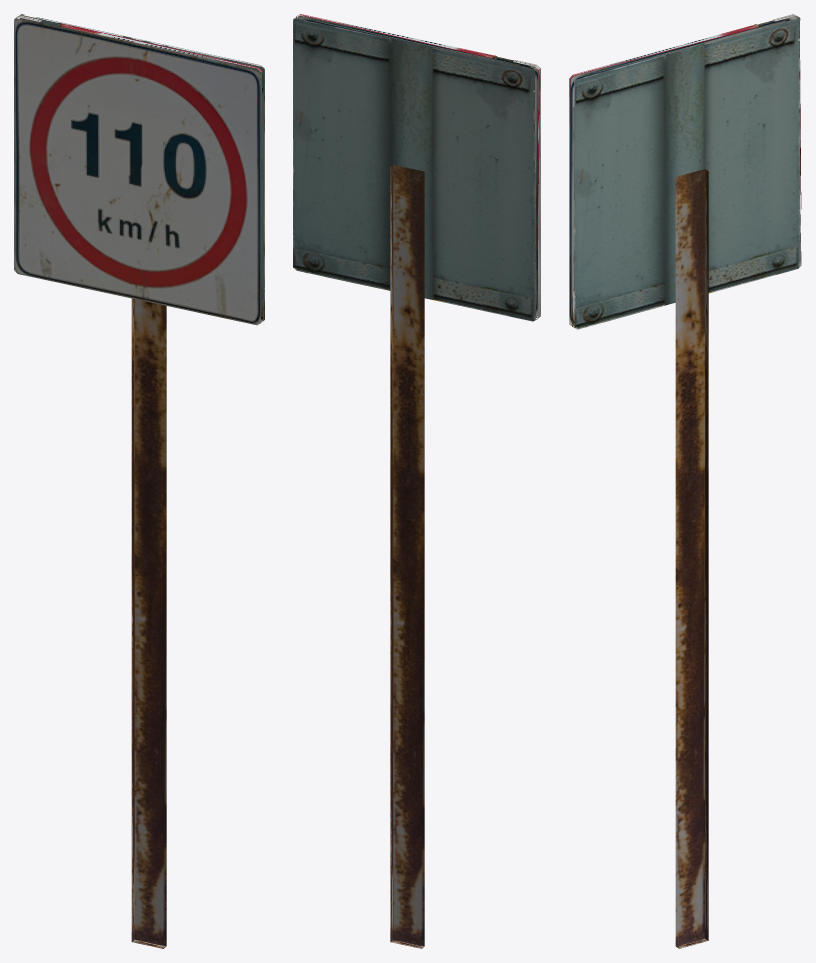
File: speed-limit-110.fbx
3 renders of one model, left to right at view 1: azimuth 30°, elevation 25°; view 2: azimuth 210°, elevation 25°; view 3: azimuth 270°, elevation 25°, orthographic.
Parts seen in each view (by area): view 1: pasted__sign_misc_1, pPlane1; view 2: pasted__sign_misc_1, pPlane1; view 3: pasted__sign_misc_1, pPlane1.
Part boxes in pixels (bbox=[...]): pasted__sign_misc_1: bbox=[14, 14, 264, 325]; pPlane1: bbox=[131, 298, 166, 948]; pasted__sign_misc_1: bbox=[293, 14, 540, 321]; pPlane1: bbox=[390, 165, 424, 948]; pasted__sign_misc_1: bbox=[569, 14, 801, 329]; pPlane1: bbox=[675, 169, 708, 948].
Size of the model in its own units: 1.06 by 6.71 by 1.59.
